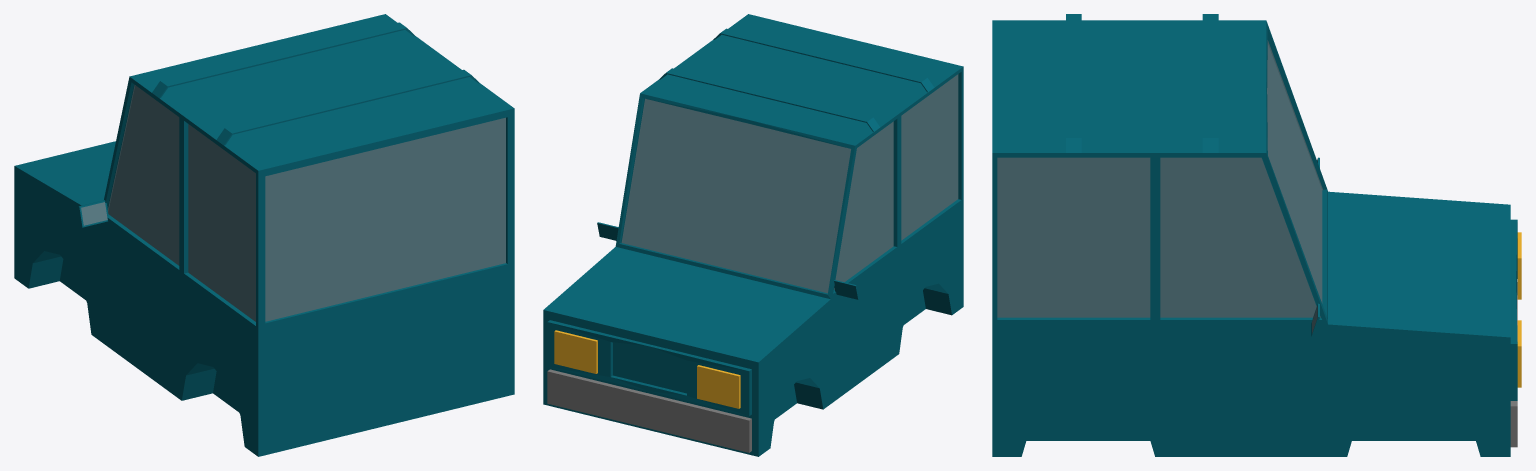
The model's file is carBody.obj.
The picture shows the model from 3 angles, left to right: view 1: azimuth 30°, elevation 25°; view 2: azimuth 150°, elevation 25°; view 3: azimuth 270°, elevation 25°; orthographic projection. The views are drawn at different scales.
Parts seen in each view (by area): view 1: car.047_Colore_0.001; view 2: car.047_Colore_0.001; view 3: car.047_Colore_0.001.
Boxes of the visible parts, x1,y1,x2,y2 form: car.047_Colore_0.001: (14,14,514,456); car.047_Colore_0.001: (543,14,963,456); car.047_Colore_0.001: (992,14,1521,456).
Size of the model in its own units: 2.25 by 2.07 by 3.15.
Materials: 1 (1 with a texture image).
